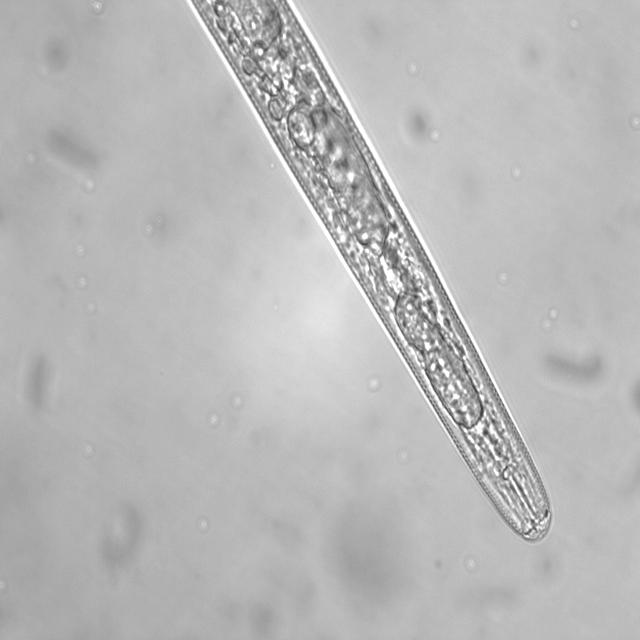Pratylenchus: (183, 0, 558, 552)
